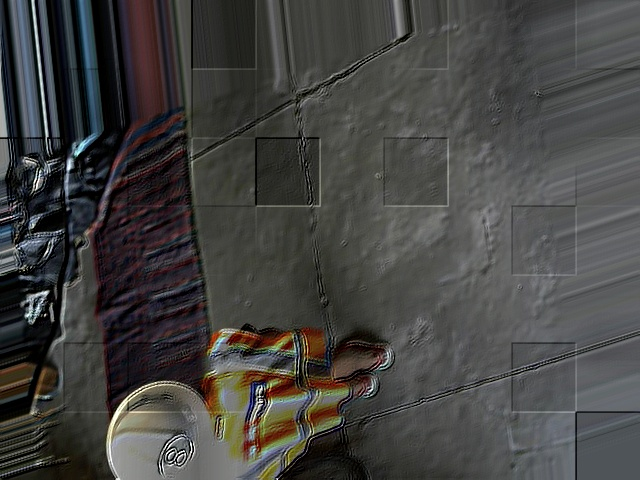eight: (156, 431, 195, 479)
